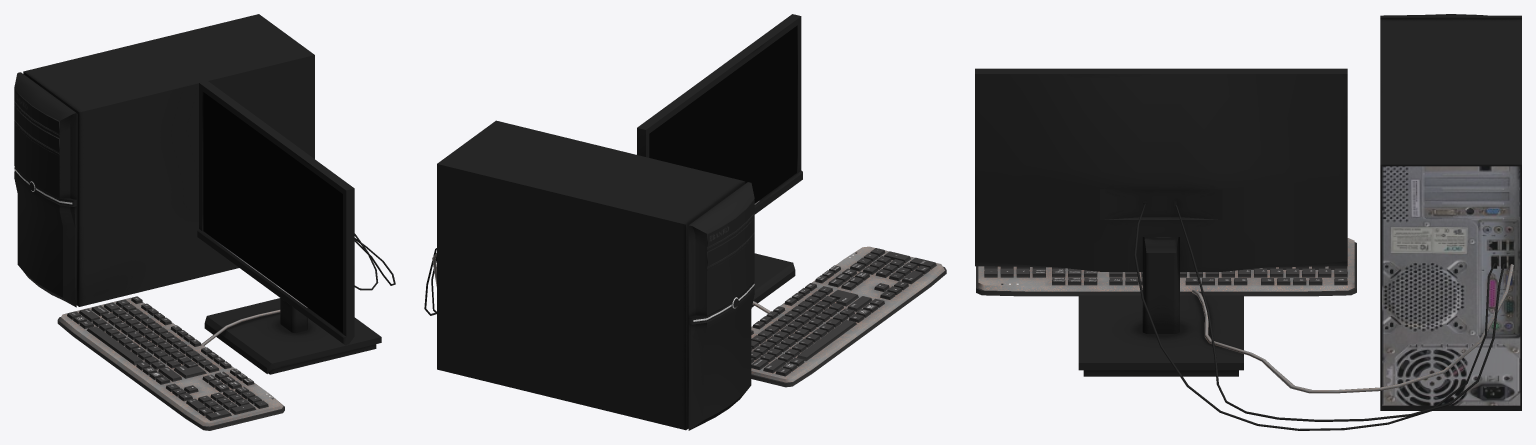
The model's file is PCset.fbx.
3 views of the same model, side by side, from view 1: azimuth 30°, elevation 25°; view 2: azimuth 150°, elevation 25°; view 3: azimuth 270°, elevation 25° (orthographic). The views are drawn at different scales.
Parts seen in each view (by area): view 1: Cube.001; view 2: Cube.001; view 3: Cube.001.
Part boxes in pixels (x1,y1,x2,y2): Cube.001: [14, 14, 395, 430]; Cube.001: [424, 14, 946, 430]; Cube.001: [975, 14, 1521, 430].
Size of the model in its own units: 75.67 by 48.69 by 91.81.
